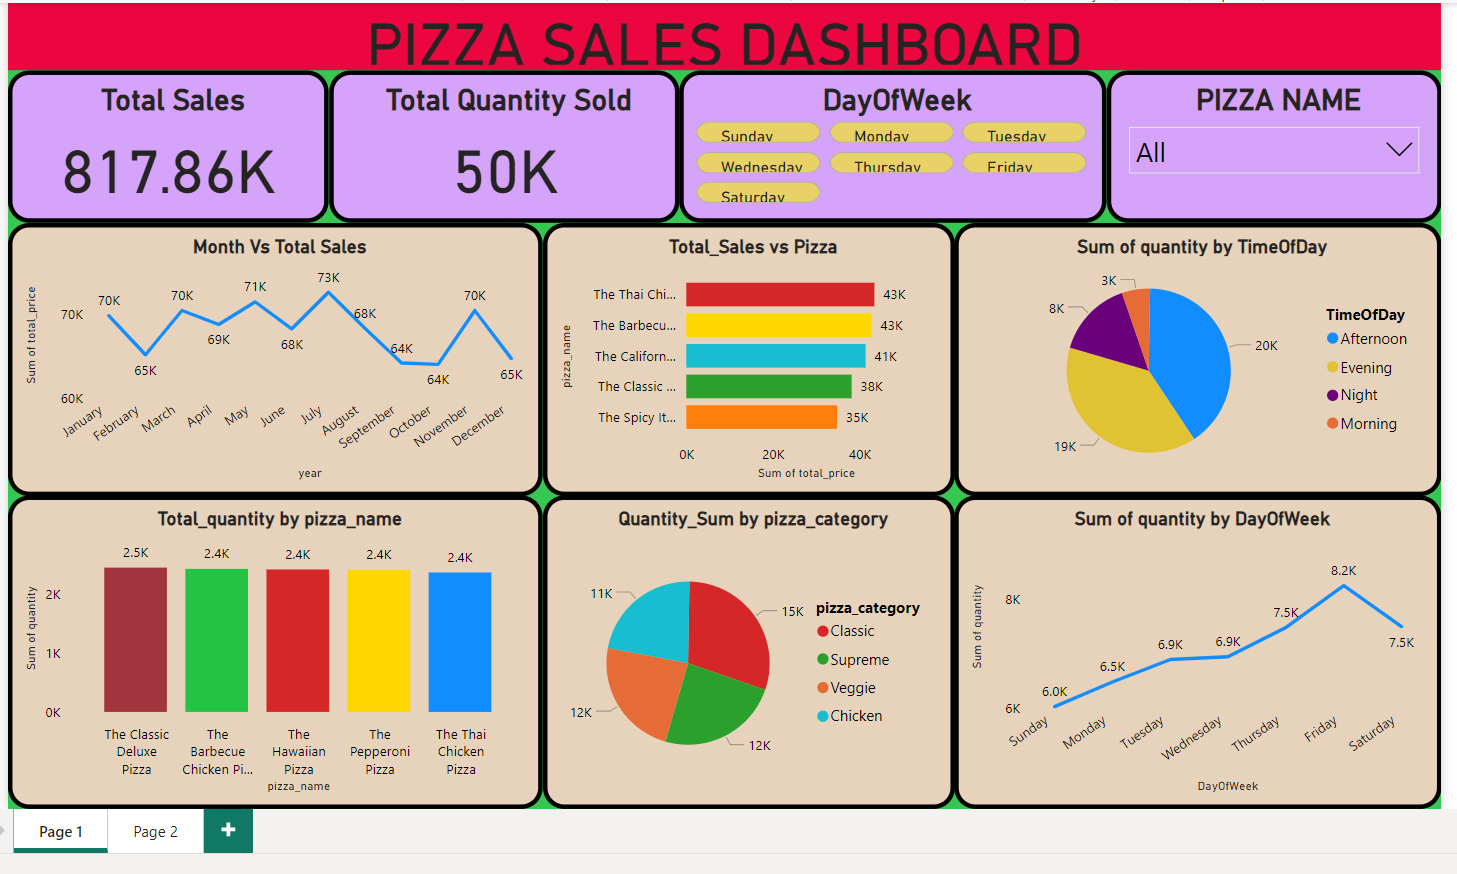

The dashboard page shown, as its layout file describes it:
{"tool":"powerbi","page":{"name":"Page 1","canvas":[1280,720],"ordinal":0},"visuals":[{"type":"card","fields":{"Values":["pizza_sales.Measure"]},"box":[0,0,1280.3,60.4],"z":0},{"type":"columnChart","title":"Total_quantity by pizza_name","fields":{"Category":["pizza_sales.pizza_name"],"Y":["Sum(pizza_sales.quantity)"]},"box":[0,440.5,477.5,279.9],"z":1000},{"type":"barChart","title":"Total_Sales vs Pizza","fields":{"Category":["pizza_sales.pizza_name"],"Y":["Sum(pizza_sales.total_price)"]},"box":[477.5,196.2,367.8,244.3],"z":2000},{"type":"pieChart","fields":{"Category":["pizza_sales.TimeOfDay"],"Y":["Sum(pizza_sales.quantity)"]},"box":[845.3,196.2,435,244.3],"z":3000},{"type":"card","title":"Total Sales","fields":{"Values":["pizza_sales.Total_Sales"]},"box":[0,60.4,286.8,135.8],"z":4000},{"type":"lineChart","title":"Month Vs Total Sales","fields":{"Y":["Sum(pizza_sales.total_price)"],"Category":["pizza_sales.year"]},"box":[0,196.2,477.5,244.3],"z":5000},{"type":"pieChart","title":"Quantity_Sum by pizza_category","fields":{"Category":["pizza_sales.pizza_category"],"Y":["Sum(pizza_sales.quantity)"]},"box":[477.5,440.5,367.8,279.9],"z":6000},{"type":"lineChart","fields":{"Y":["Sum(pizza_sales.quantity)"],"Category":["pizza_sales.DayOfWeek"]},"box":[845.3,440.5,435,279.9],"z":7000},{"type":"slicer","title":"PIZZA NAME","fields":{"Values":["pizza_sales.pizza_name"]},"box":[981.1,60.4,299.1,135.8],"z":8000},{"type":"card","title":"Total Quantity Sold","fields":{"Values":["pizza_sales.quantity1"]},"box":[286.8,60.4,312.9,135.8],"z":9000},{"type":"advancedSlicerVisual","fields":{"Values":["pizza_sales.DayOfWeek"]},"box":[599.7,60.4,381.5,135.8],"z":10000}]}

Visuals, with their boxes in screenshot pixels (x1, y1, x2, y2):
card - pizza_sales.Measure: Rect(4, 0, 1441, 68)
"Total_quantity by pizza_name" columnChart: Rect(4, 494, 540, 809)
"Total_Sales vs Pizza" barChart: Rect(540, 220, 953, 494)
pieChart - pizza_sales.TimeOfDay x Sum(pizza_sales.quantity): Rect(953, 220, 1441, 494)
"Total Sales" card: Rect(4, 68, 326, 220)
"Month Vs Total Sales" lineChart: Rect(4, 220, 540, 494)
"Quantity_Sum by pizza_category" pieChart: Rect(540, 494, 953, 809)
lineChart - Sum(pizza_sales.quantity) x pizza_sales.DayOfWeek: Rect(953, 494, 1441, 809)
"PIZZA NAME" slicer: Rect(1105, 68, 1441, 220)
"Total Quantity Sold" card: Rect(326, 68, 677, 220)
advancedSlicerVisual - pizza_sales.DayOfWeek: Rect(677, 68, 1105, 220)
